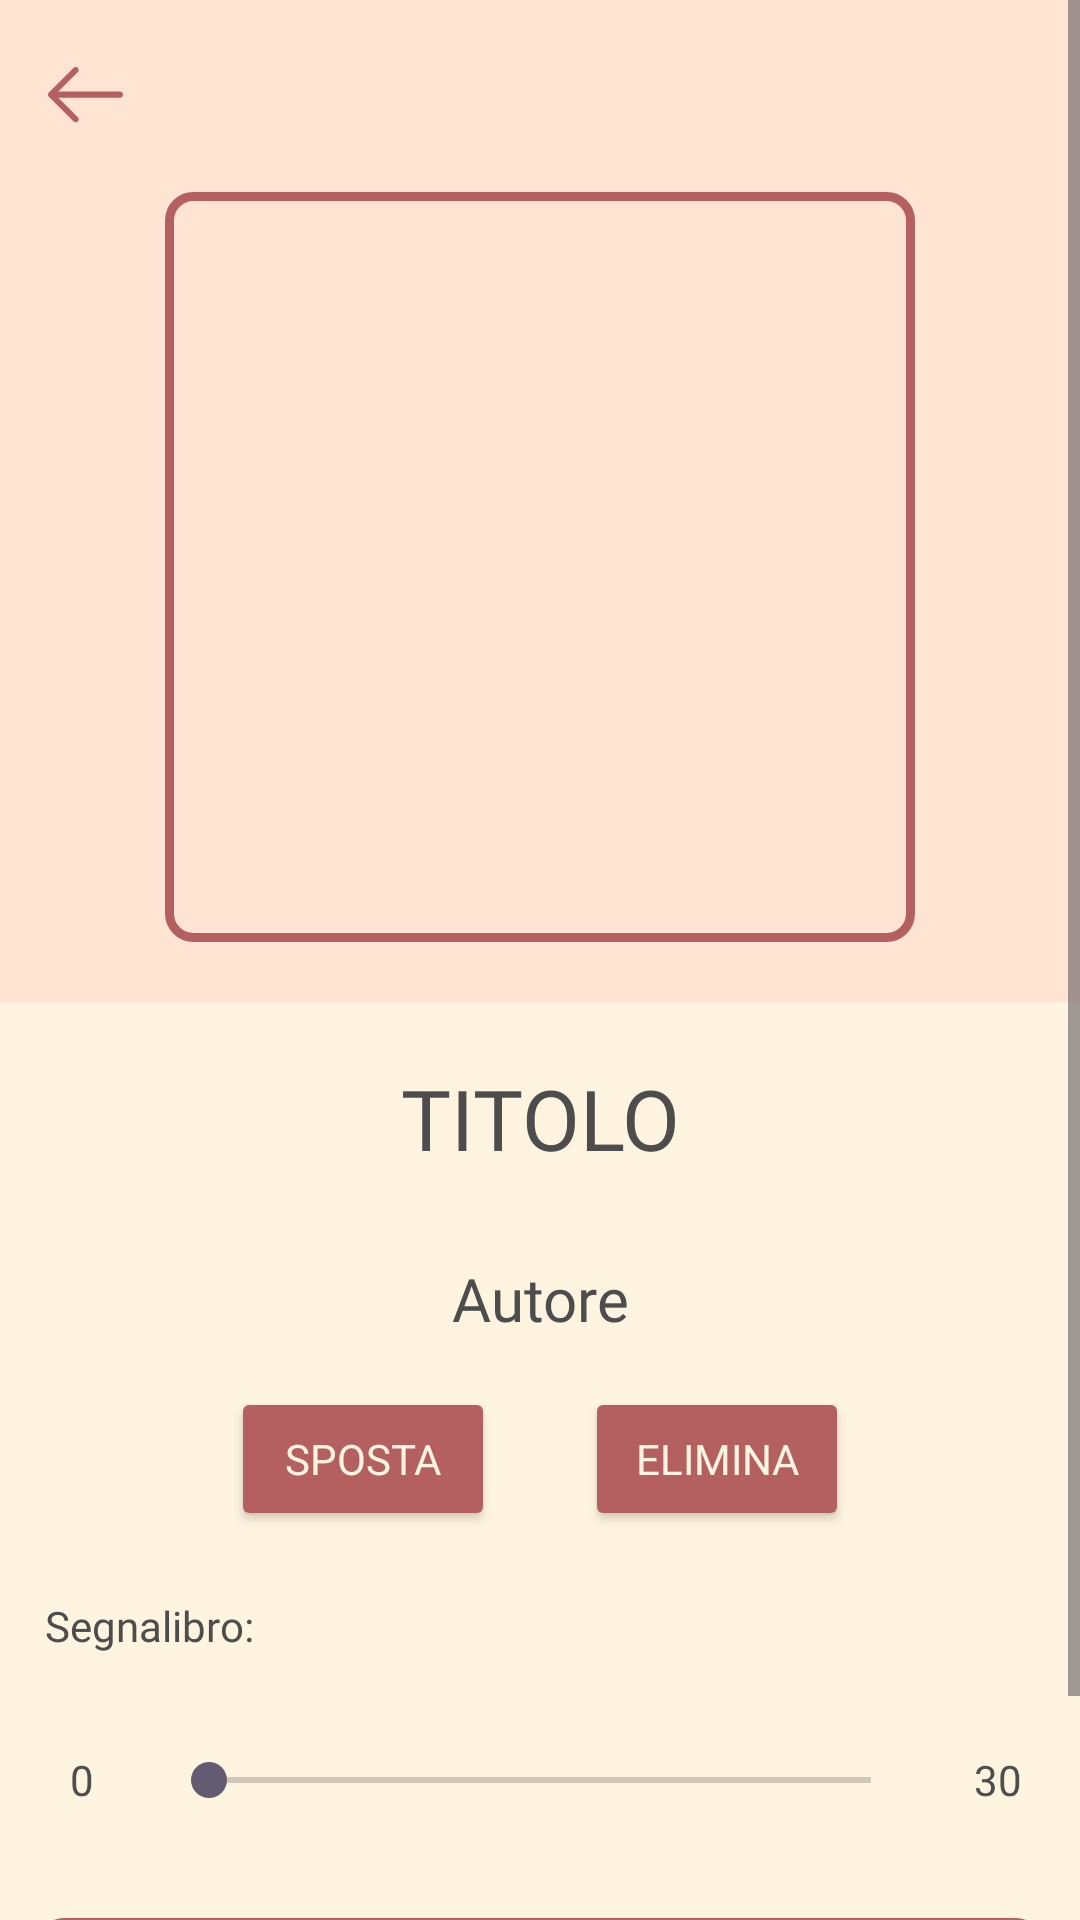

Named icons in this screenshot (1080px x 1920px) and their bounding boxes, Rect(x1, y1, x2, y2):
back: Rect(48, 67, 123, 123)
